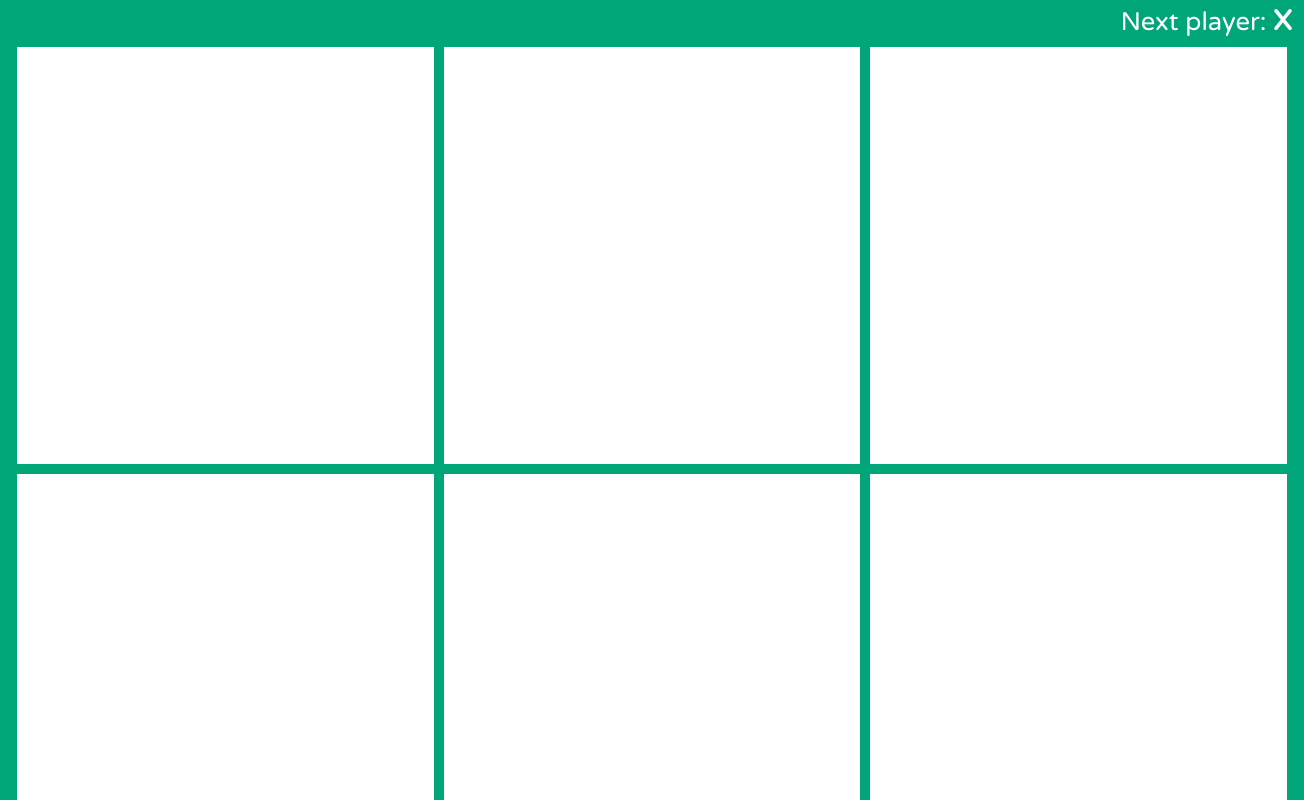
Test case: TicTacToe component › When O plays, should draw a O square on game board
Click the 1st button: (225, 256) [12,42,439,469]
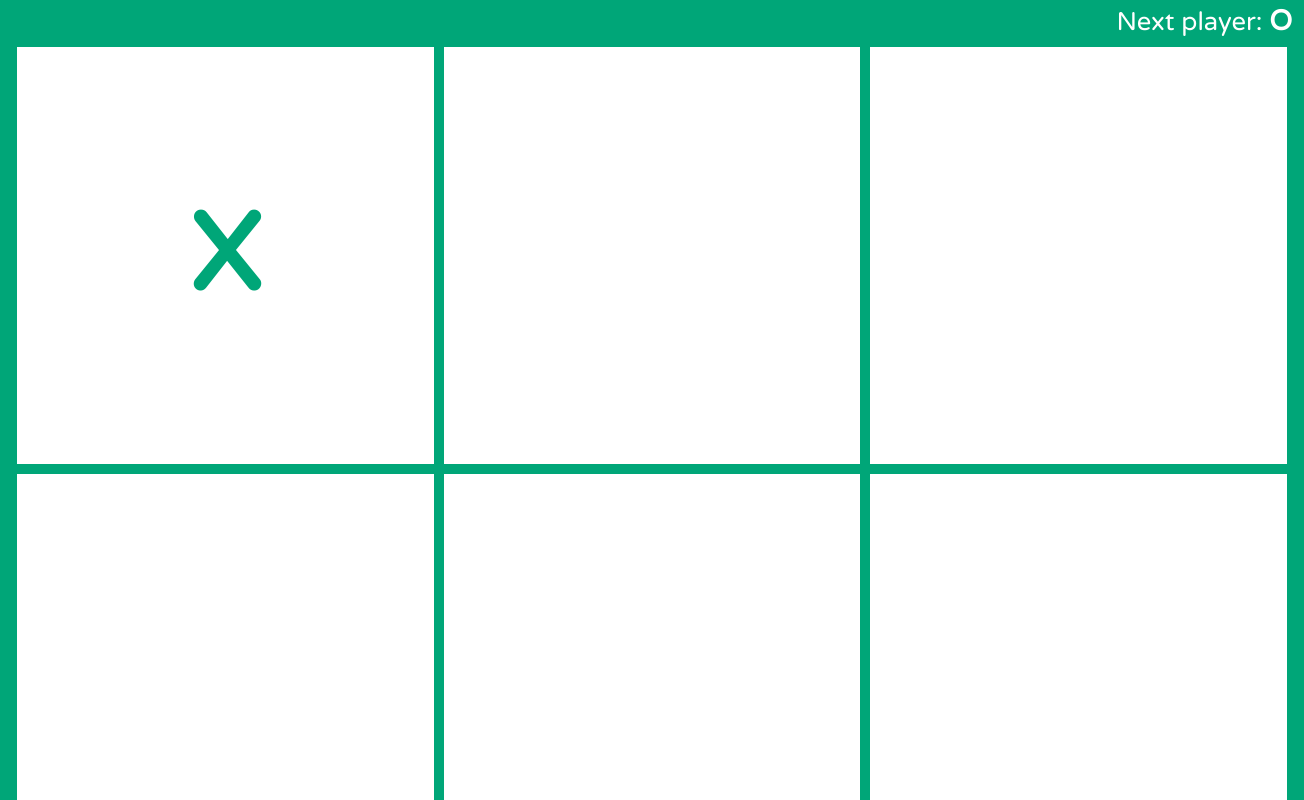
Click the 2nd button: (652, 256) [439,42,865,469]
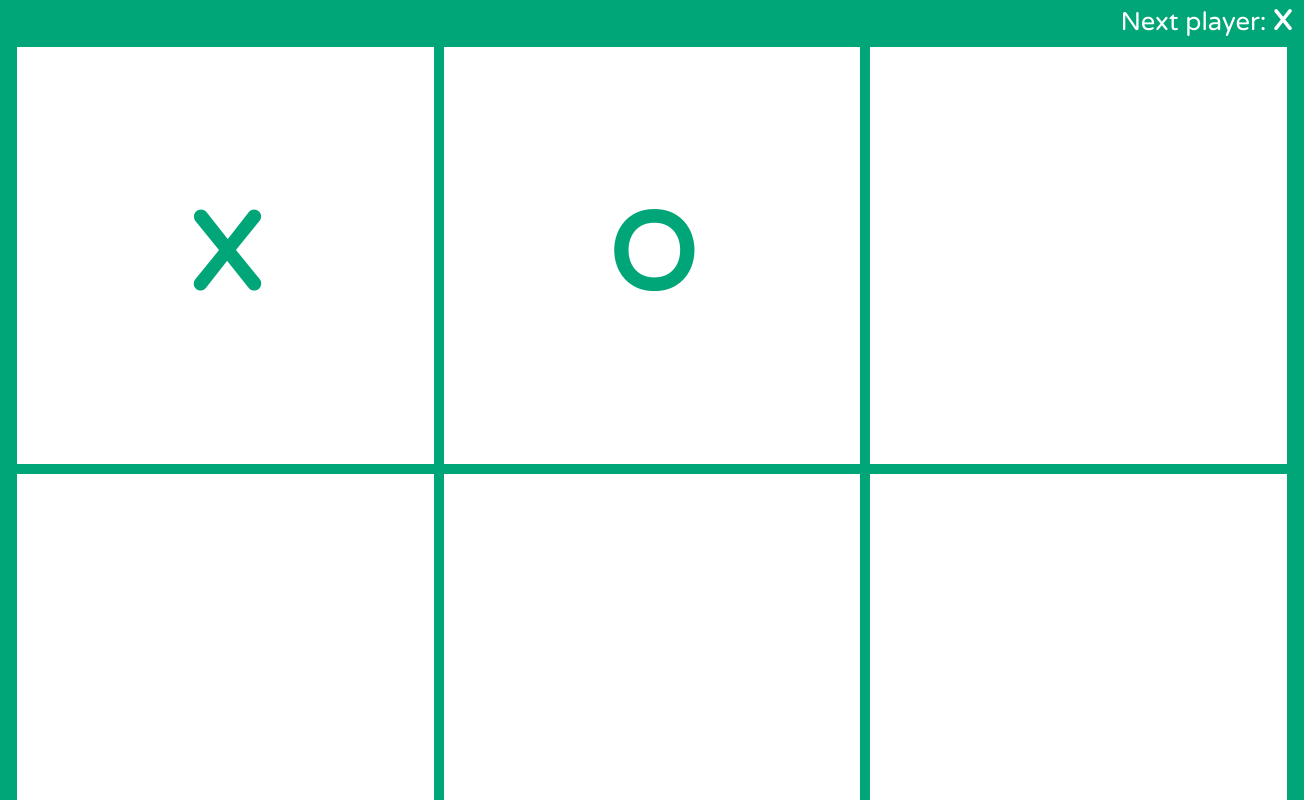
Check: the button "O" is shown, box [439,42,865,469]
